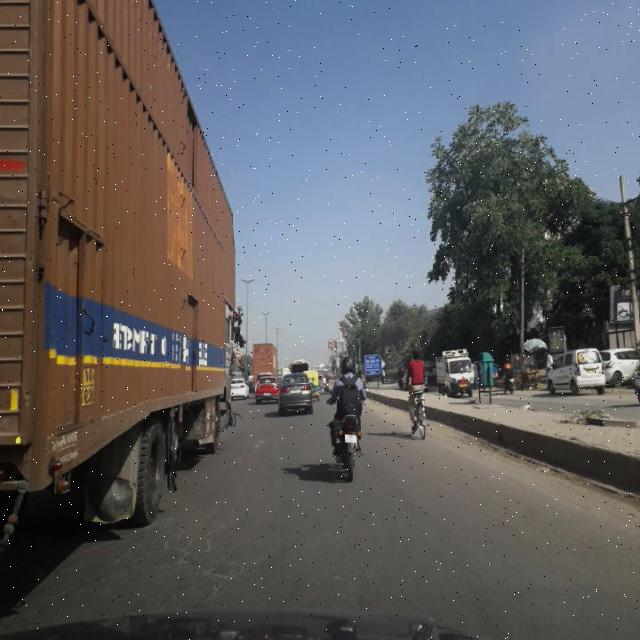D20: (156, 516, 238, 592)
